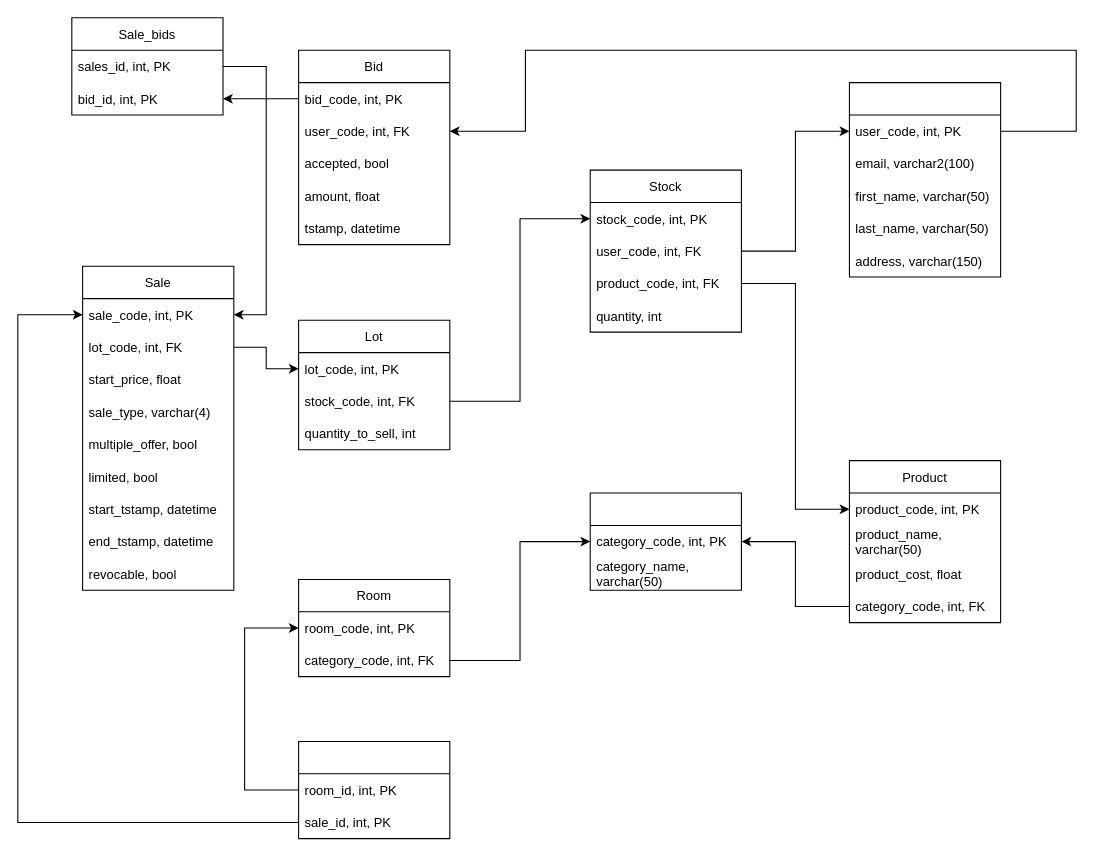
This 1094x856 diagram has some shape labels left out. Each missing label, with the box of its shape:
BaseUser: (848, 82, 1001, 277)
CategoryProduct: (589, 492, 741, 590)
Room_sales: (298, 740, 450, 839)
